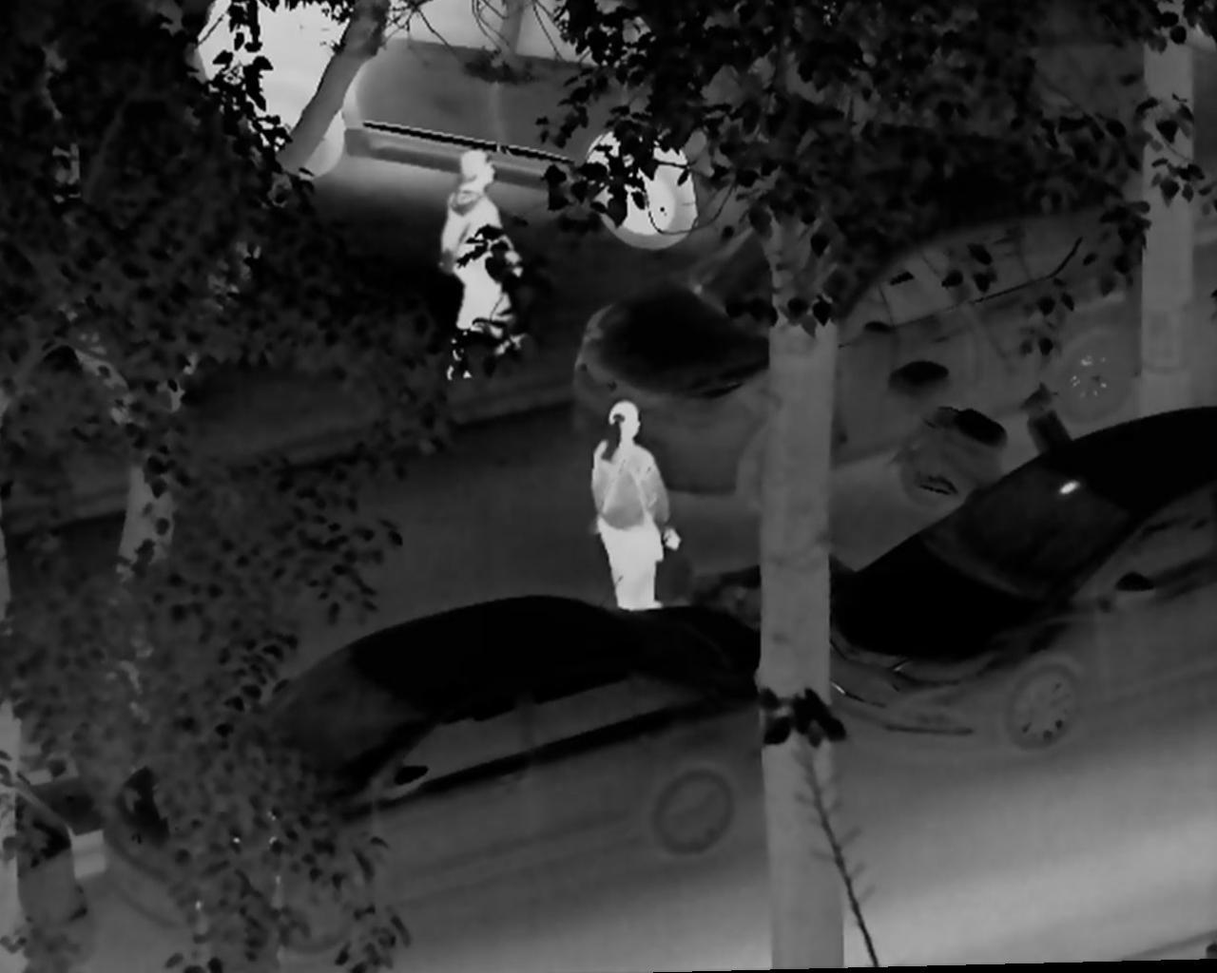person: (425, 146, 527, 391), (580, 396, 682, 615)
